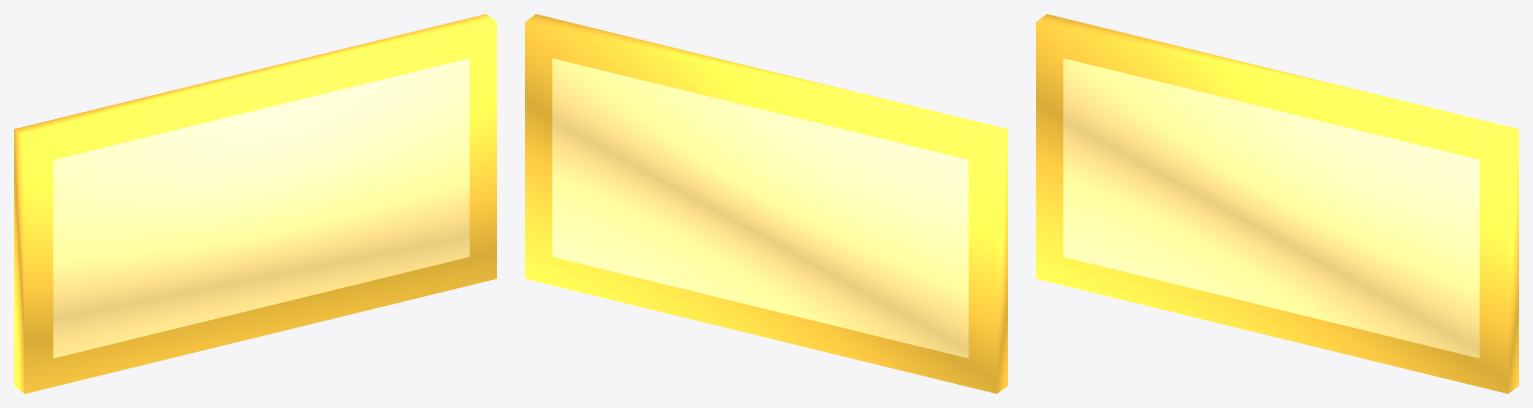
The model's file is CR-fx_ticket.glb.
The picture shows the model from 3 angles, left to right: view 1: azimuth 30°, elevation 25°; view 2: azimuth 150°, elevation 25°; view 3: azimuth 330°, elevation 25°; orthographic projection.
Visible parts, largest first — view 1: fx_ticket; view 2: fx_ticket; view 3: fx_ticket.
Boxes of the visible parts, left/top/right/bottom form: fx_ticket: left=14, top=14, right=496, bottom=393; fx_ticket: left=525, top=14, right=1007, bottom=393; fx_ticket: left=1036, top=14, right=1518, bottom=393.
Bounding box in the file's own units: 0.5 × 0.26 × 0.024.
